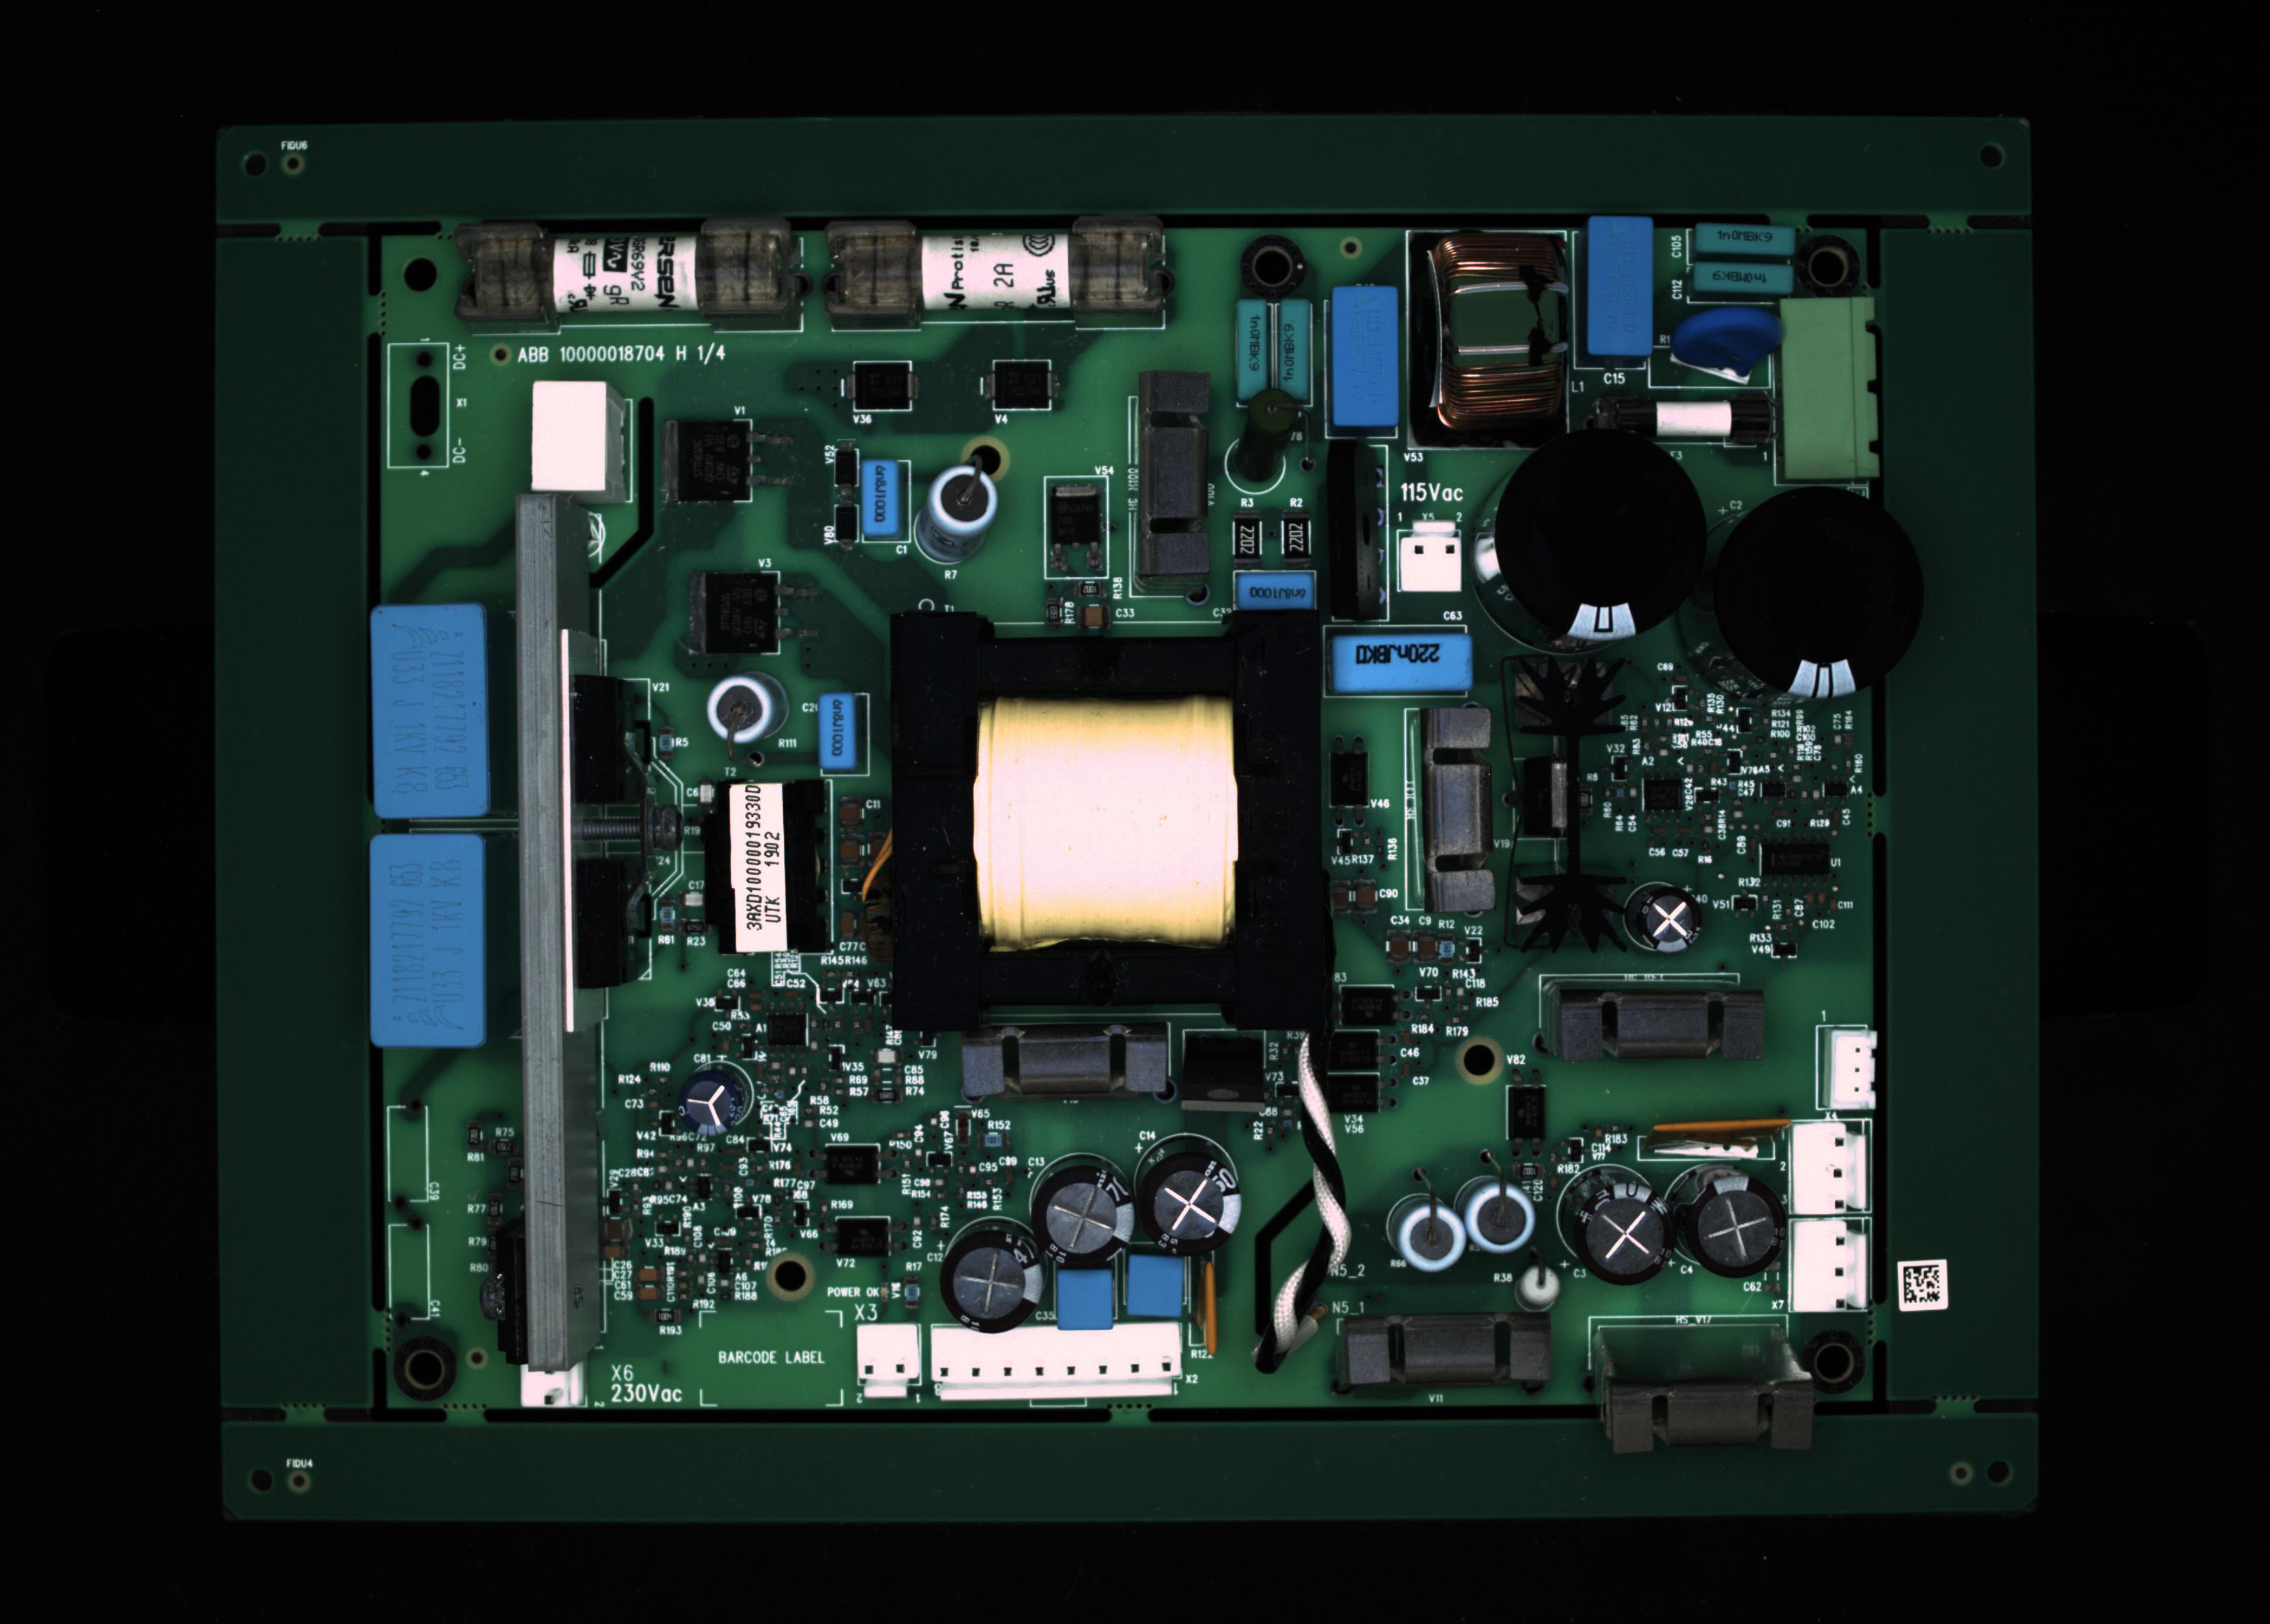10_p: (1648, 346, 1772, 394)
11_q: (1779, 299, 1878, 490)
12_r: (1591, 387, 1776, 455)
14_t: (531, 380, 629, 492)
15_e: (855, 459, 907, 547)
16_k: (914, 462, 1000, 566)
17_u: (1136, 371, 1215, 594)
18_v: (1234, 569, 1317, 608)
19_w: (1331, 626, 1472, 691)
1_a: (455, 216, 807, 336)
20_f: (1393, 517, 1470, 599)
21_g: (1493, 429, 1709, 645)
22_g: (1713, 487, 1925, 700)
23_h: (375, 606, 485, 817)
24_h: (369, 828, 484, 1044)
25_f: (515, 1360, 591, 1411)
26_f: (851, 1323, 927, 1403)
27_x: (925, 1323, 1185, 1415)
28_i: (1132, 1148, 1240, 1253)
29_i: (1027, 1153, 1134, 1274)
2_a: (819, 216, 1175, 330)
30_i: (941, 1216, 1046, 1334)
31_j: (1053, 1271, 1117, 1330)
32_j: (1124, 1255, 1187, 1320)
33_e: (814, 692, 869, 780)
34_k: (1387, 1190, 1465, 1271)
35_k: (1465, 1181, 1539, 1257)
36_i: (1570, 1181, 1676, 1285)
37_i: (1686, 1174, 1786, 1280)
38_l: (1343, 1315, 1553, 1396)
39_l: (1604, 1388, 1818, 1452)
3_b: (1236, 295, 1270, 406)
40_l: (1539, 977, 1769, 1062)
41_y: (1422, 707, 1496, 919)
42_z: (1818, 1028, 1874, 1114)
43_m: (1792, 1125, 1869, 1216)
44_m: (1788, 1218, 1873, 1313)
45_i: (679, 1065, 756, 1142)
46_n: (1338, 982, 1412, 1028)
47_n: (811, 1142, 899, 1192)
48_n: (818, 1214, 911, 1265)
49_aa: (761, 1011, 814, 1056)
4_b: (1280, 299, 1313, 404)
50_n: (1321, 1030, 1391, 1070)
51_n: (1308, 1070, 1396, 1120)
52_ab: (1328, 736, 1375, 828)
53_ac: (1656, 1130, 1790, 1165)
54_ad: (1194, 1257, 1219, 1359)
55_l: (964, 1025, 1175, 1100)
56_ae: (1182, 1030, 1266, 1114)
57_af: (1509, 647, 1635, 951)
58_i: (1630, 884, 1706, 958)
59_o: (981, 359, 1067, 417)
5_c: (1329, 286, 1400, 448)
60_o: (840, 357, 923, 420)
6_6: (1405, 232, 1572, 452)
7_c: (1584, 218, 1649, 359)
8_d: (1700, 225, 1797, 257)
9_d: (1693, 262, 1793, 294)
